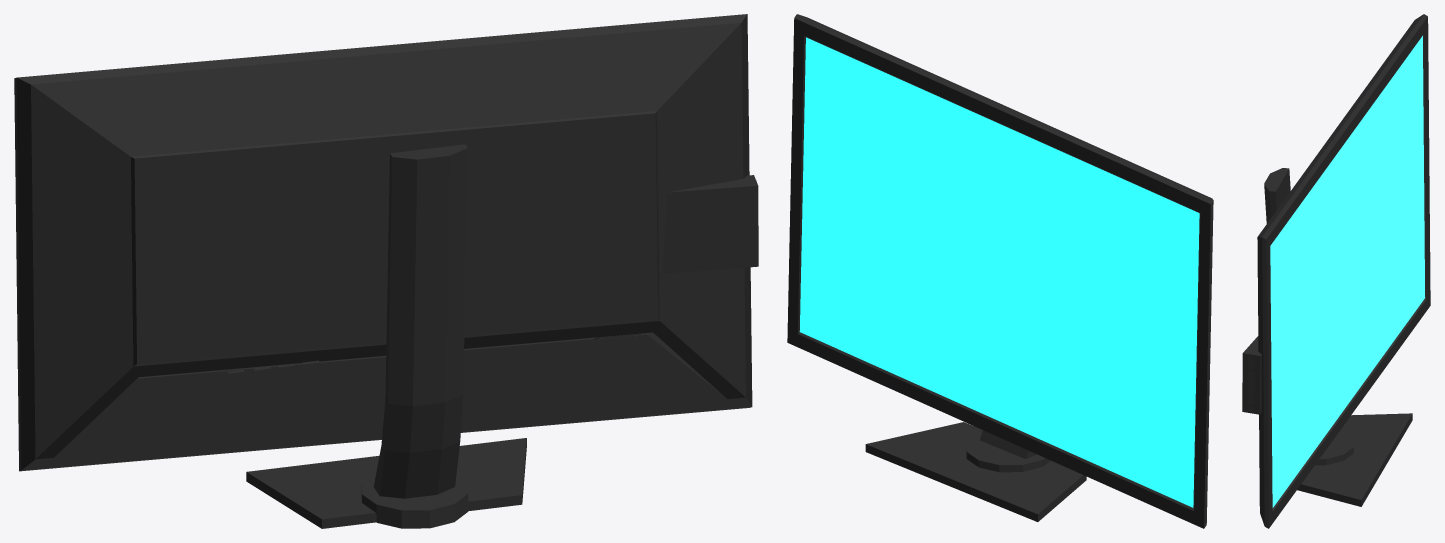
Rendered from Monitor_Base.fbx.
3 views of the same model, side by side, from view 1: azimuth 30°, elevation 25°; view 2: azimuth 150°, elevation 25°; view 3: azimuth 270°, elevation 25° (orthographic). The views are drawn at different scales.
Visible parts, largest first — view 1: Monitor_01.036; view 2: Monitor_01.036; view 3: Monitor_01.036.
Part boxes in pixels (x1,y1,x2,y2): Monitor_01.036: (14, 14, 758, 528); Monitor_01.036: (787, 14, 1213, 528); Monitor_01.036: (1242, 14, 1430, 528).
Bounding box in the file's own units: 94.79 × 65.41 × 34.04.
